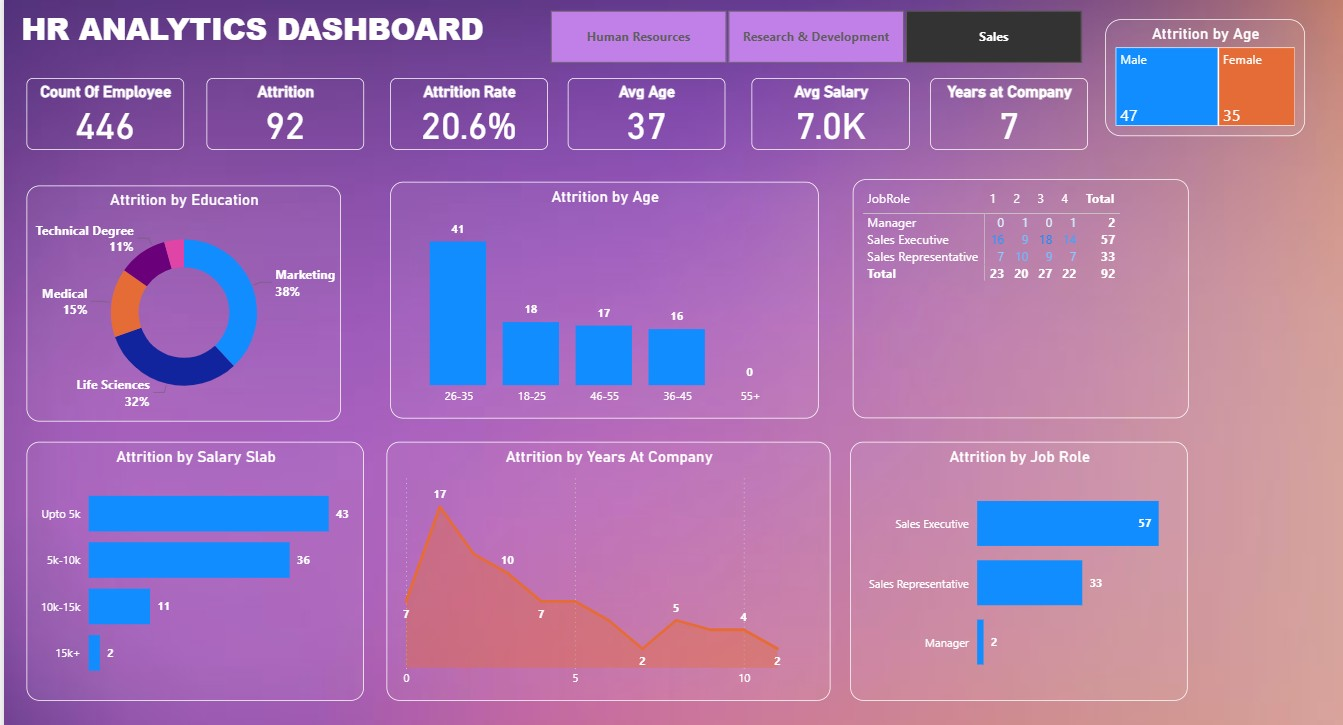

Layout of this report page (visuals, bound fields, positions):
{"tool":"powerbi","page":{"name":"Page 1","canvas":[1448,988],"ordinal":0},"visuals":[{"type":"card","title":"Count Of Employee","fields":{"Values":["CountNonNull(HR_Analytics.EmpID)"]},"box":[23.8,91.2,170,77.5],"z":0},{"type":"card","title":"Attrition","fields":{"Values":["Sum(HR_Analytics.AttritionCount)"]},"box":[218.8,91.2,170,77.5],"z":1000},{"type":"card","title":"Attrition Rate","fields":{"Values":["HR_Analytics.Attrition_Rate"]},"box":[417.5,91.2,170,77.5],"z":2000},{"type":"card","title":"Avg Age","fields":{"Values":["Avg(HR_Analytics.Age)"]},"box":[610,91.2,170,77.5],"z":3000},{"type":"card","title":"Years at Company","fields":{"Values":["Avg(HR_Analytics.YearsAtCompany)"]},"box":[1001.2,91.2,170,77.5],"z":4000},{"type":"card","title":"Avg Salary","fields":{"Values":["Avg(HR_Analytics.MonthlyIncome)"]},"box":[807.5,91.2,171.2,77.5],"z":5000},{"type":"donutChart","title":"Attrition by Education","fields":{"Category":["HR_Analytics.EducationField"],"Y":["Sum(HR_Analytics.AttritionCount)"]},"box":[23.8,207.5,340,255],"z":6000},{"type":"columnChart","title":"Attrition by Age","fields":{"Category":["HR_Analytics.AgeGroup"],"Y":["Sum(HR_Analytics.AttritionCount)"]},"box":[417.1,204.3,463.4,255.7],"z":7000},{"type":"pivotTable","fields":{"Rows":["HR_Analytics.JobRole"],"Columns":["HR_Analytics.JobSatisfaction"],"Values":["Sum(HR_Analytics.AttritionCount)"]},"box":[917.1,201.4,362.9,258.6],"z":8000},{"type":"barChart","title":"Attrition by Salary Slab","fields":{"Category":["HR_Analytics.SalarySlab"],"Y":["Sum(HR_Analytics.AttritionCount)"]},"box":[23.8,485,365,280],"z":9000},{"type":"barChart","title":"Attrition by Job Role","fields":{"Y":["Sum(HR_Analytics.AttritionCount)"],"Category":["HR_Analytics.JobRole"]},"box":[915,485,365,280],"z":10000},{"type":"areaChart","title":"Attrition by Years At Company  ","fields":{"Category":["HR_Analytics.YearsAtCompany"],"Y":["Sum(HR_Analytics.AttritionCount)"]},"box":[413.8,485,480,280],"z":11000},{"type":"treemap","title":"Attrition by Age","fields":{"Group":["HR_Analytics.Gender"],"Values":["Sum(HR_Analytics.AttritionCount)"]},"box":[1191,29,216,126],"z":12000},{"type":"slicer","fields":{"Values":["HR_Analytics.Department"]},"box":[564.6,11.7,624.3,70],"z":13000},{"type":"textbox","box":[12.9,11.4,657.1,71.4],"z":14000}]}

Visuals, with their boxes on the page's 1448x988 design canvas (x1, y1, x2, y2). These are canvas units, not pixel positions in the 1343x725 screenshot, which may show the page scaled, cropped or inside an application window:
"Count Of Employee" card: locate(24, 91, 194, 169)
"Attrition" card: locate(219, 91, 389, 169)
"Attrition Rate" card: locate(418, 91, 588, 169)
"Avg Age" card: locate(610, 91, 780, 169)
"Years at Company" card: locate(1001, 91, 1171, 169)
"Avg Salary" card: locate(808, 91, 979, 169)
"Attrition by Education" donutChart: locate(24, 208, 364, 462)
"Attrition by Age" columnChart: locate(417, 204, 880, 460)
pivotTable - HR_Analytics.JobRole x HR_Analytics.JobSatisfaction: locate(917, 201, 1280, 460)
"Attrition by Salary Slab" barChart: locate(24, 485, 389, 765)
"Attrition by Job Role" barChart: locate(915, 485, 1280, 765)
"Attrition by Years At Company  " areaChart: locate(414, 485, 894, 765)
"Attrition by Age" treemap: locate(1191, 29, 1407, 155)
slicer - HR_Analytics.Department: locate(565, 12, 1189, 82)
textbox: locate(13, 11, 670, 83)
